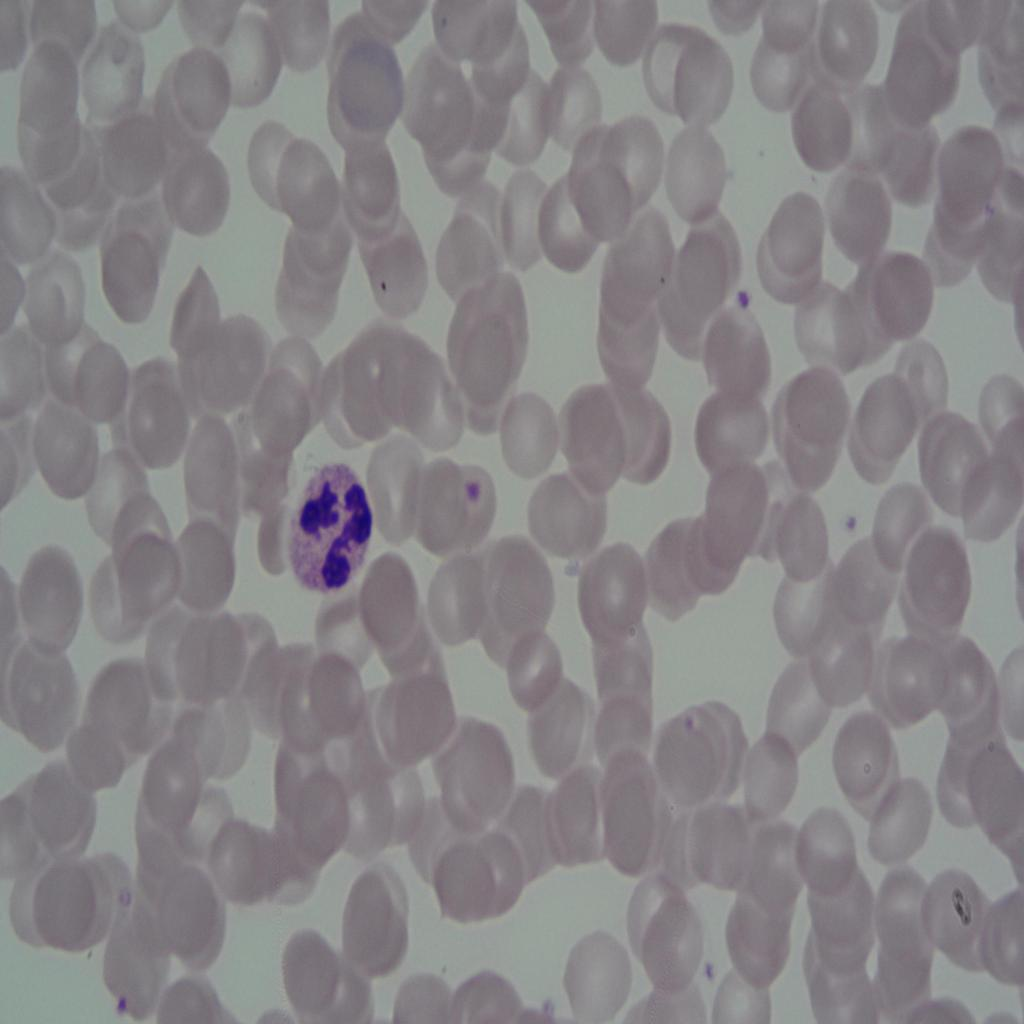Neutrofil: (273, 440, 380, 616)
Platelet: (725, 278, 765, 334), (837, 506, 878, 546), (458, 474, 485, 518), (696, 959, 730, 989)
